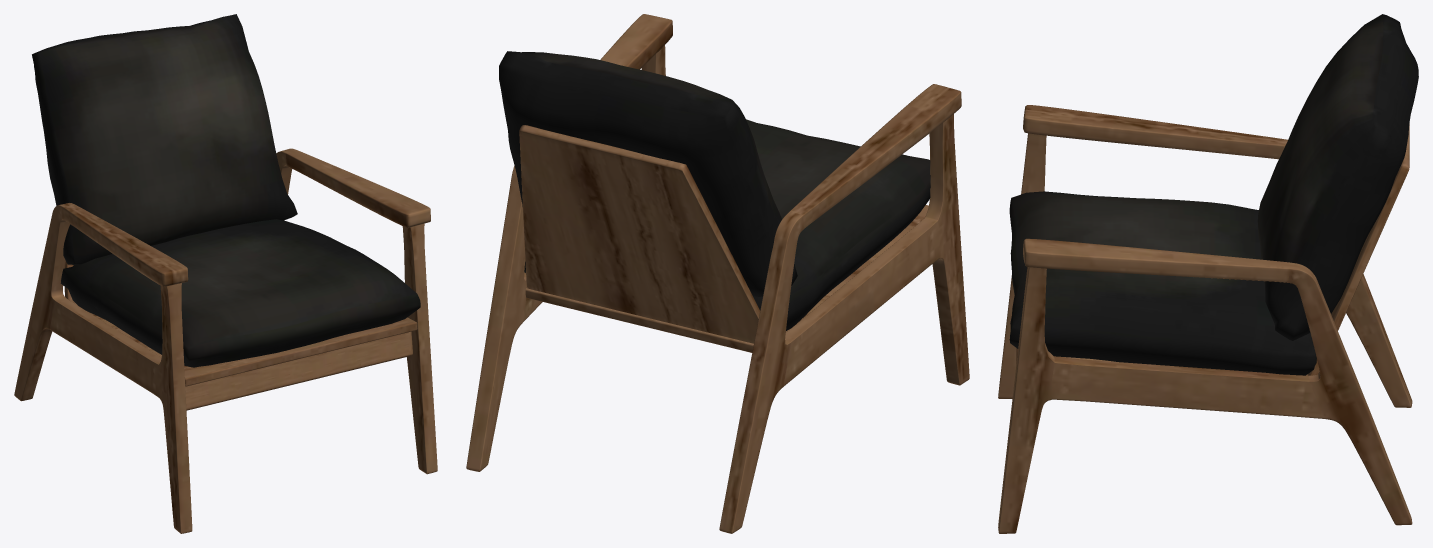
Rendered from modern_arm_chair_01.glb.
The picture shows the model from 3 angles, left to right: view 1: azimuth 30°, elevation 25°; view 2: azimuth 150°, elevation 25°; view 3: azimuth 270°, elevation 25°; orthographic projection. The views are drawn at different scales.
Visible parts, largest first — view 1: modern_arm_chair_01; view 2: modern_arm_chair_01; view 3: modern_arm_chair_01.
Part boxes in pixels (<box>): modern_arm_chair_01: <box>14,14,437,533</box>; modern_arm_chair_01: <box>466,14,969,533</box>; modern_arm_chair_01: <box>998,14,1418,533</box>.
Size of the model in its own units: 0.8203 by 1.02 by 0.9866.
2 materials, 2 textured.
